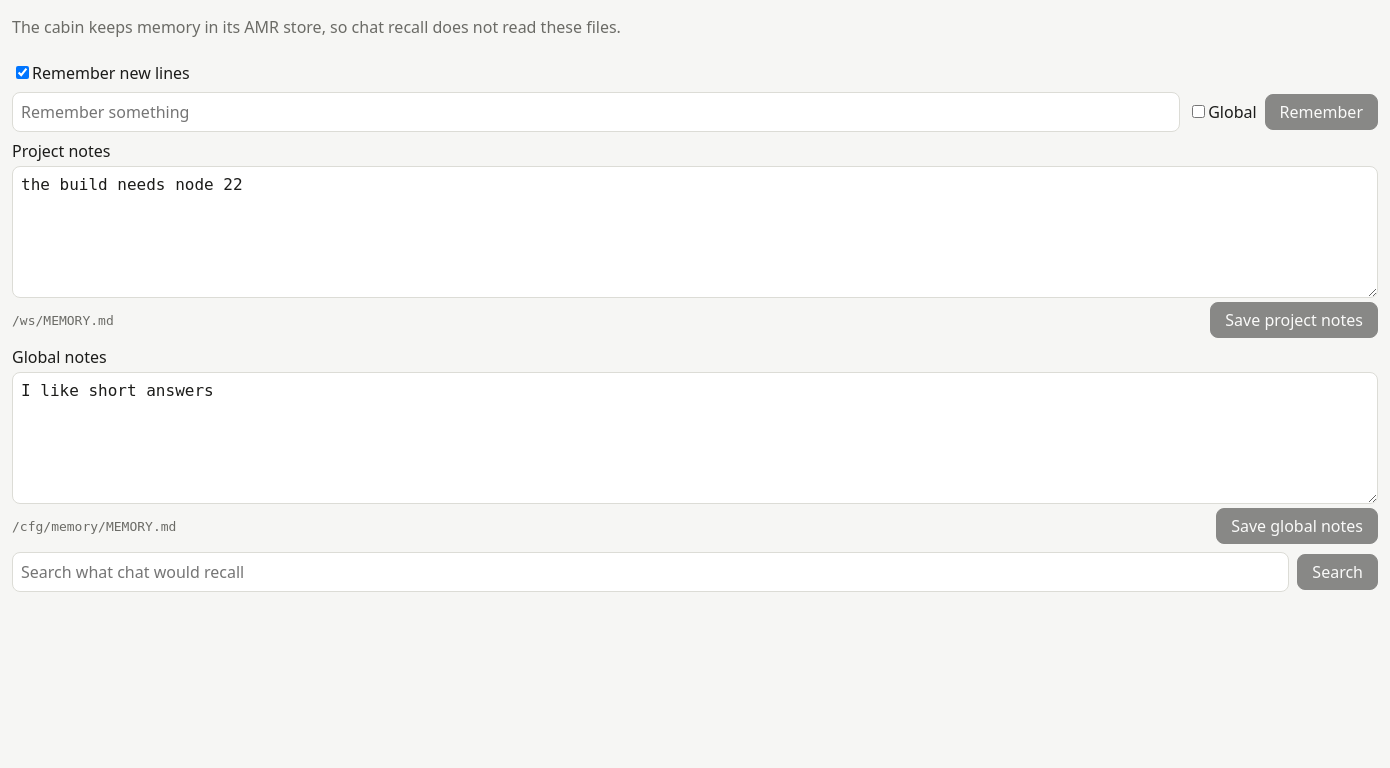
Test: Memory › search lists hits by scope and says when nothing matches
Check: the text "AMR store" is shown, box [12,16,621,38]
Type "node" into the field named "Search memory" at (651,572), box [12,552,1289,592]
Then press Enter
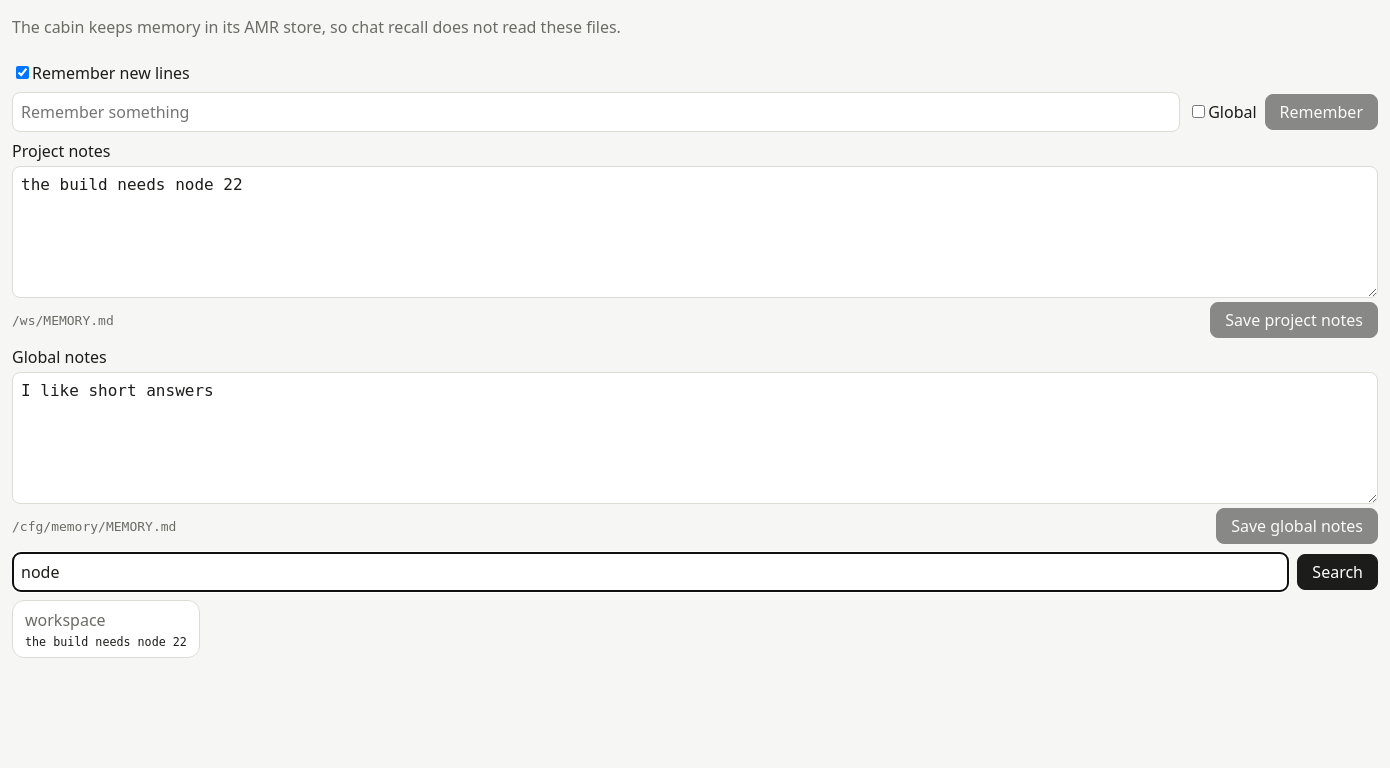
Check: the list named "Search results" shows "workspace", box [25,609,106,631]
Check: the list named "Search results" shows "the build needs node 22", box [25,635,187,649]
Replace the text in the field named "Search memory" with "python" at (651,572), box [12,552,1289,592]
Then press Enter
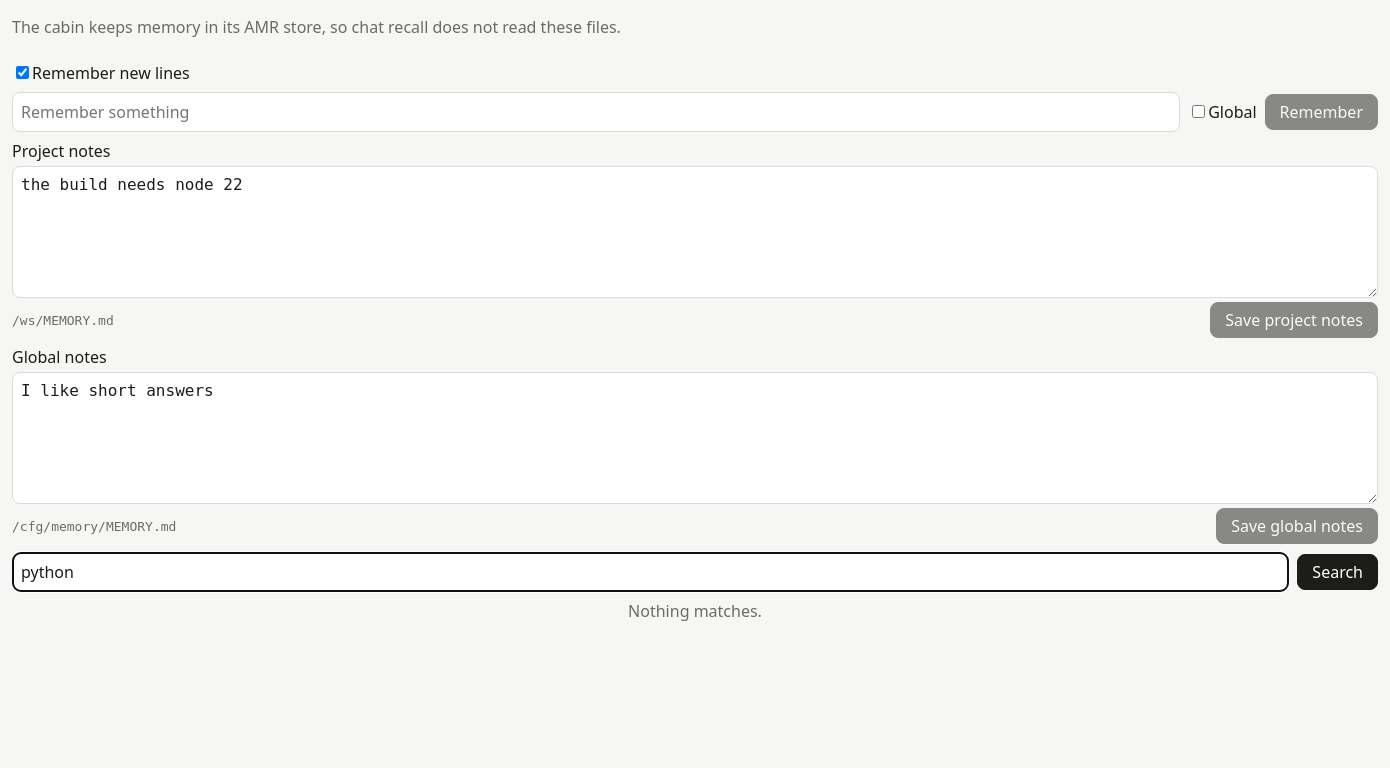
Check: the text "Nothing matches." is shown, box [628,600,762,622]
